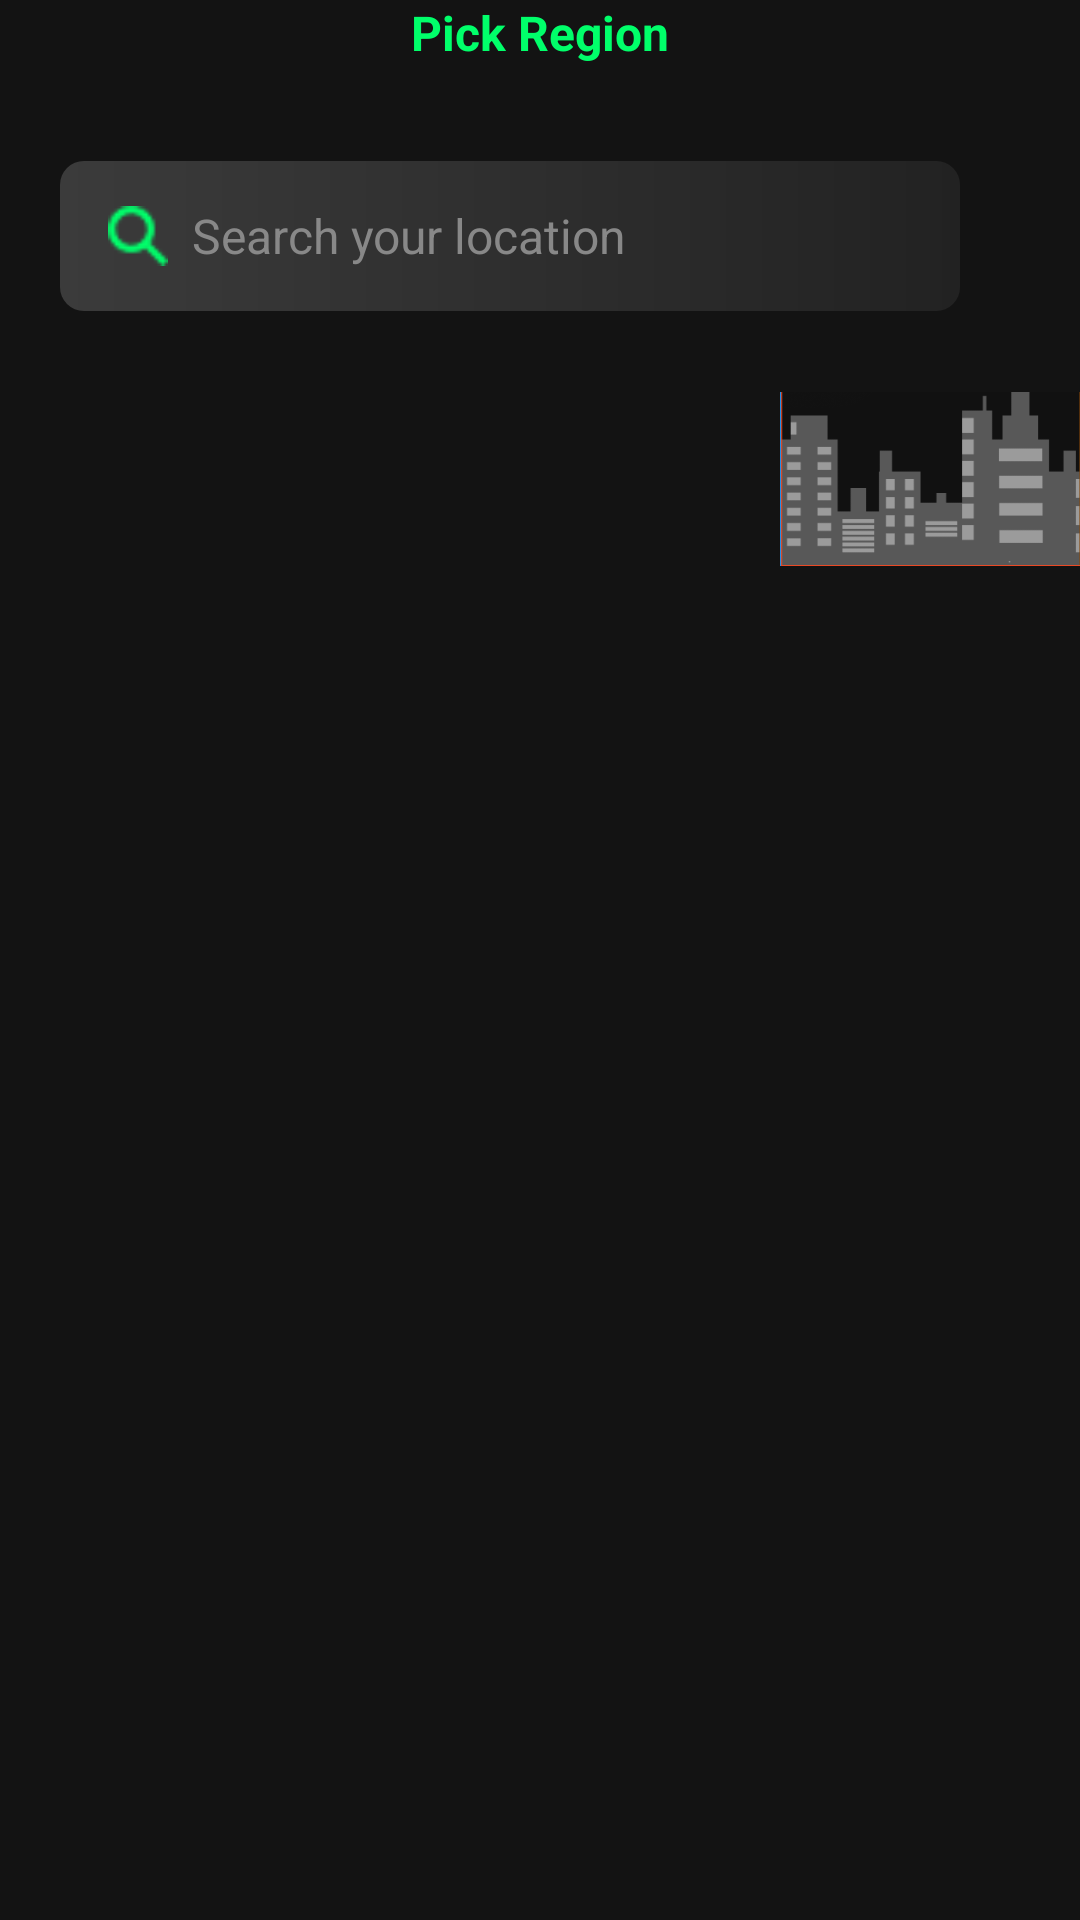

Icons on this 1080w x 1920h Android screen, each with its box as (left=x1, top=y1, right=x2, bottom=y2):
city: (left=780, top=392, right=1080, bottom=566)
searchlocation: (left=108, top=206, right=168, bottom=266)
